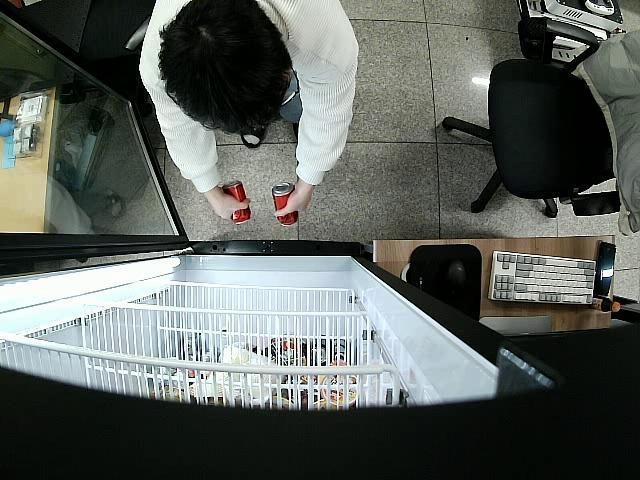11_cocaColaZero: (224, 180, 252, 225), (272, 182, 298, 226)
